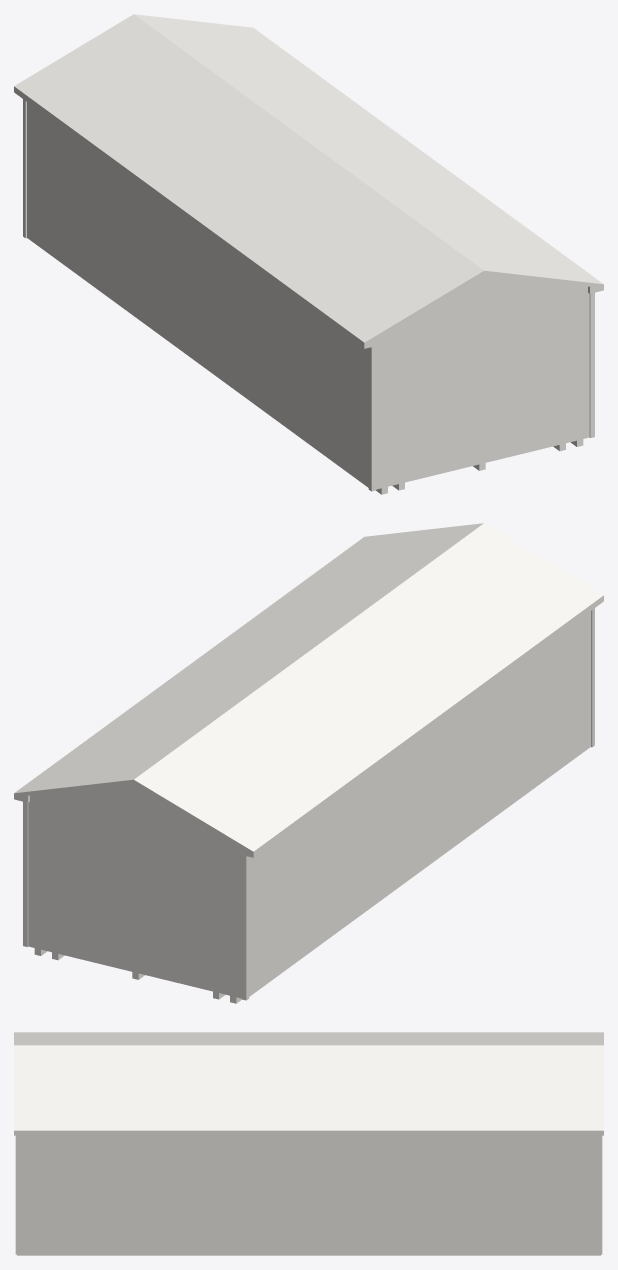
Rendered from 8 wide A-frame_7ft_12x32.obj.
3 views of the same model, one above another, from view 1: azimuth 30°, elevation 25°; view 2: azimuth 150°, elevation 25°; view 3: azimuth 270°, elevation 25° (orthographic). The views are drawn at different scales.
Parts seen in each view (by area): view 1: Shed, Roof, Sides, Trim; view 2: Shed, Roof, Sides, Trim; view 3: Shed, Roof, Sides, Trim, Floor.
Boxes of the visible parts, x1,y1,x2,y2 form: Shed: [27, 102, 589, 489]; Roof: [14, 14, 603, 342]; Sides: [14, 86, 603, 348]; Trim: [23, 99, 594, 491]; Shed: [28, 611, 590, 998]; Roof: [14, 523, 603, 851]; Sides: [14, 595, 603, 857]; Trim: [23, 608, 594, 1000]; Shed: [20, 1135, 597, 1253]; Roof: [14, 1032, 603, 1130]; Sides: [14, 1130, 603, 1135]; Trim: [15, 1135, 602, 1254]; Floor: [17, 1254, 600, 1255].
Bounding box in the file's own units: 3.89 × 3.12 × 9.86.
